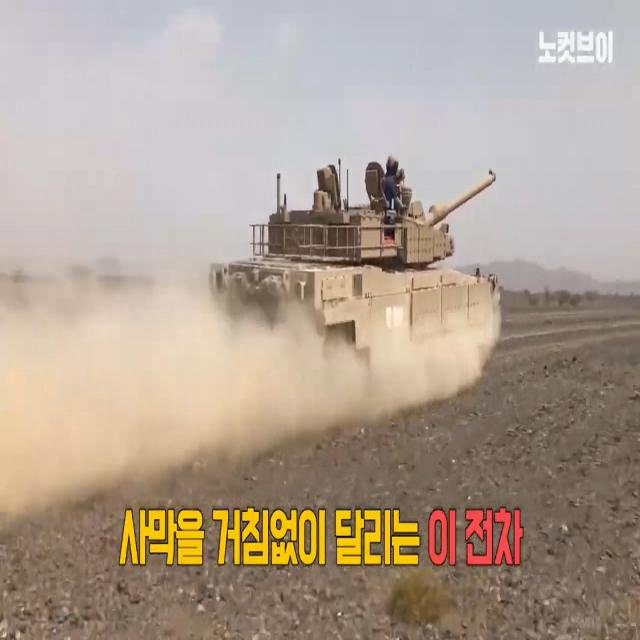korea tank: (208, 154, 500, 393)
